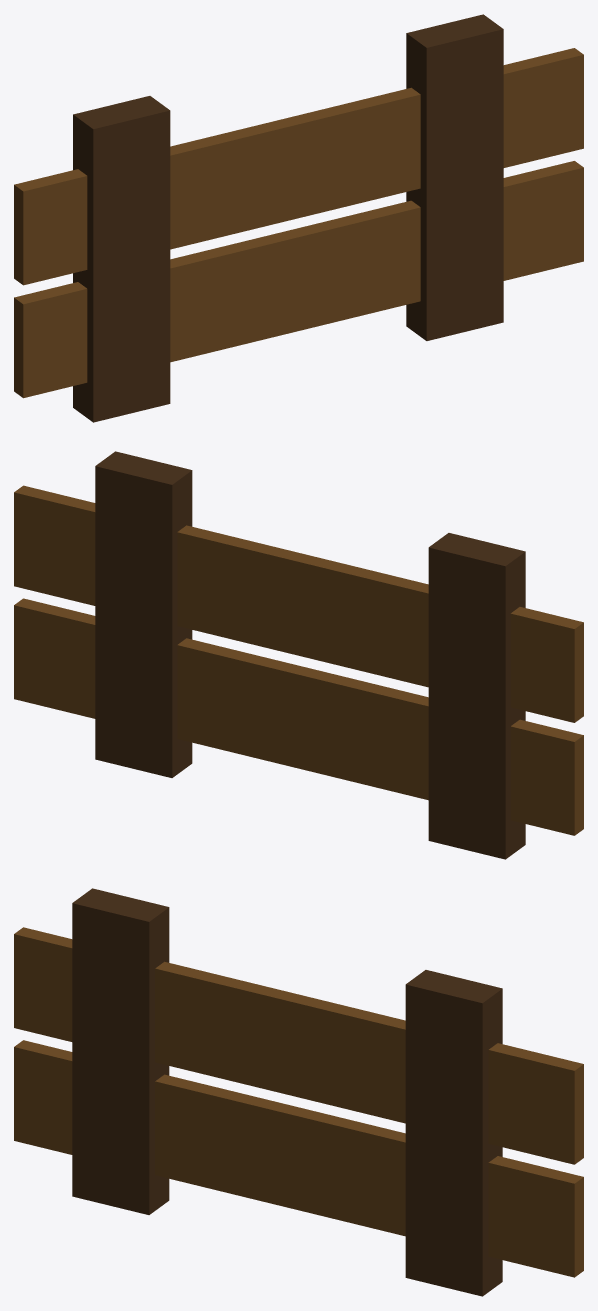
File: fence.fbx
3 views of the same model, one above another, from view 1: azimuth 30°, elevation 25°; view 2: azimuth 150°, elevation 25°; view 3: azimuth 330°, elevation 25° (orthographic).
Visible parts, largest first — view 1: Fence; view 2: Fence; view 3: Fence.
Part boxes in pixels (x1,y1,x2,y2): Fence: (14,14,583,422); Fence: (14,451,583,859); Fence: (14,888,583,1296).
Size of the model in its own units: 800 by 400 by 50.
